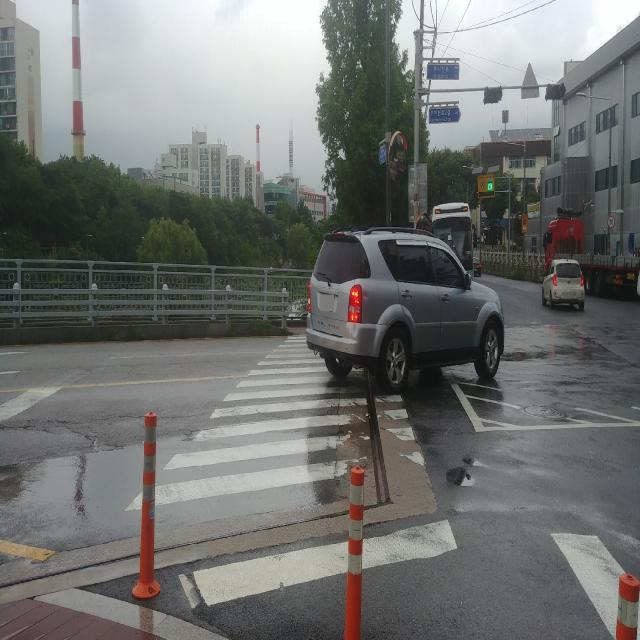횡단보도: (124, 335, 458, 611)
